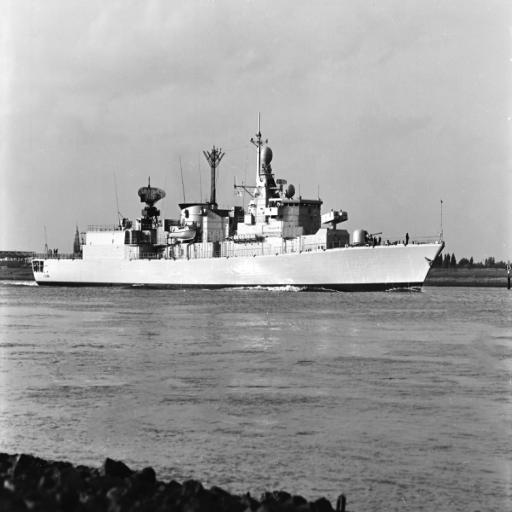Fragata: (27, 111, 447, 292)
